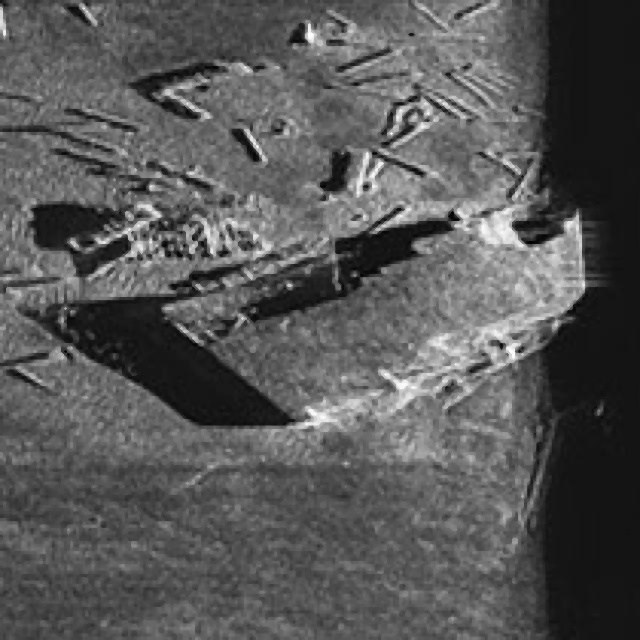Ship: (40, 153, 596, 447)
